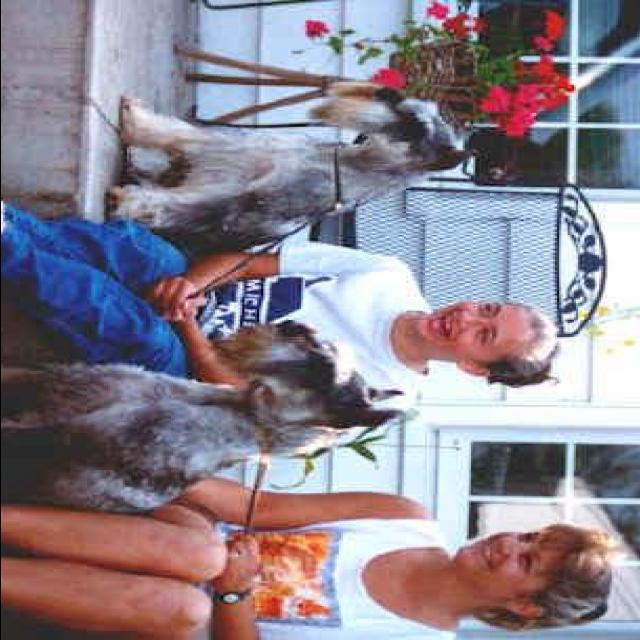standard_schnauzer: (2, 322, 405, 510), (102, 78, 482, 252)
